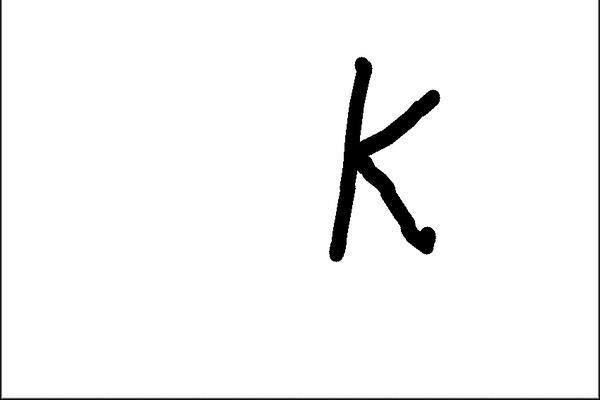K: (325, 51, 445, 268)
